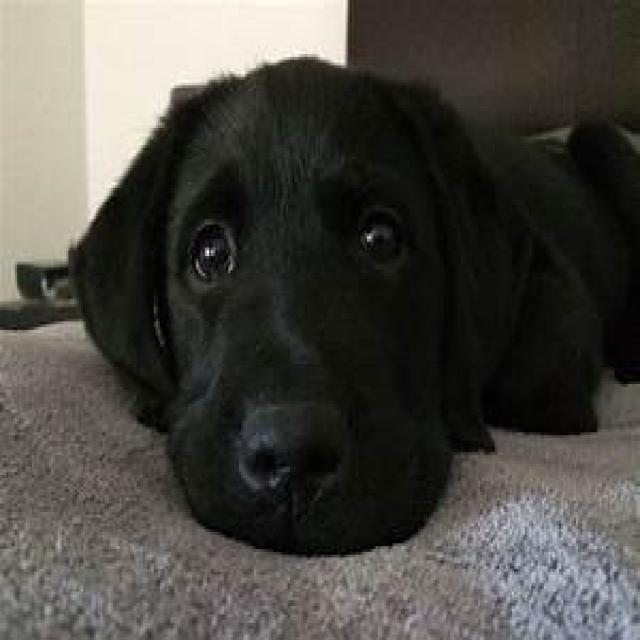dog: (71, 58, 640, 552)
